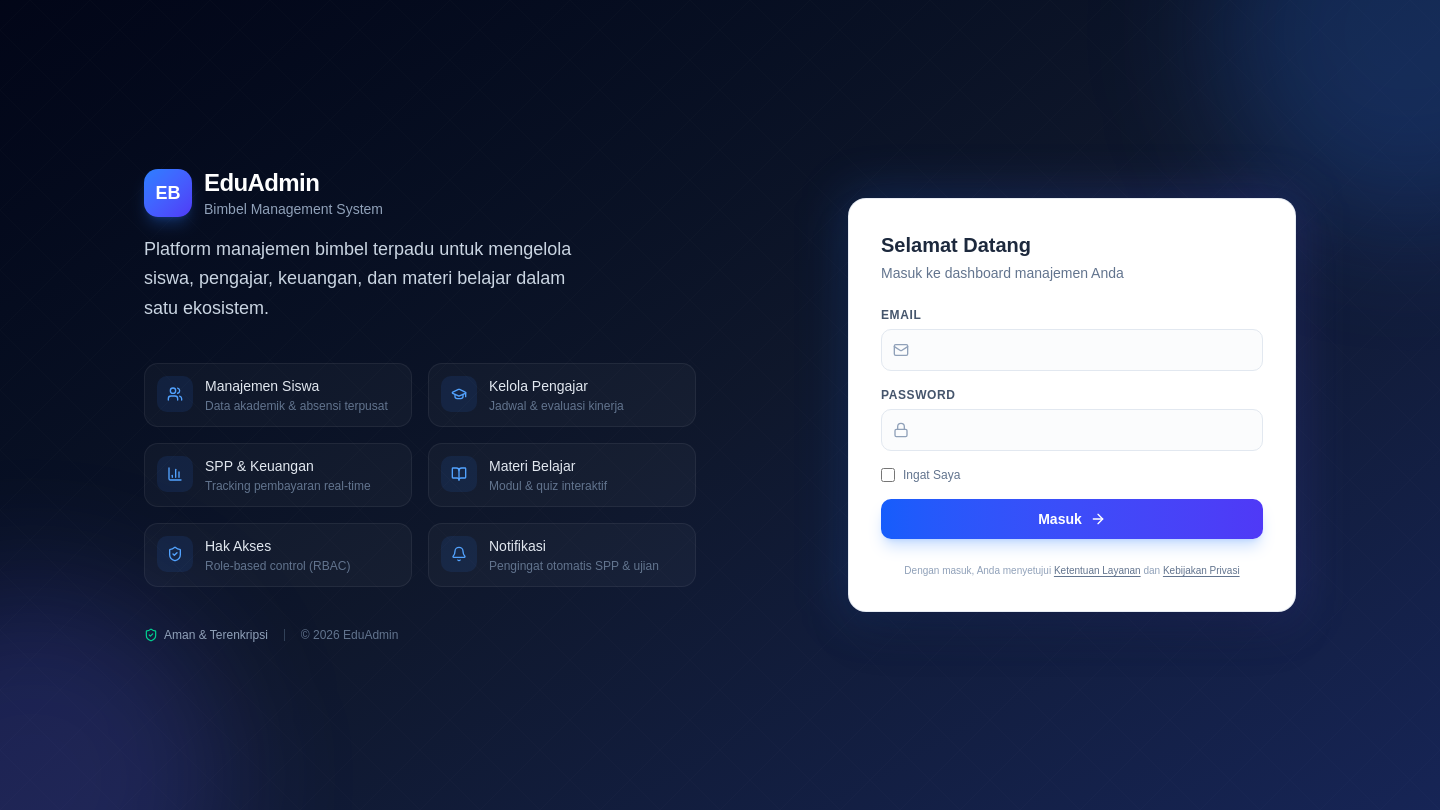
LoginPage — Email/Password Form › shows error message on failed login
This screenshot has width=1440, height=810.
Type "admin@bimbel.edu" into the field labelled "Email" at (1072,350), box 881,329 -> 1263,371
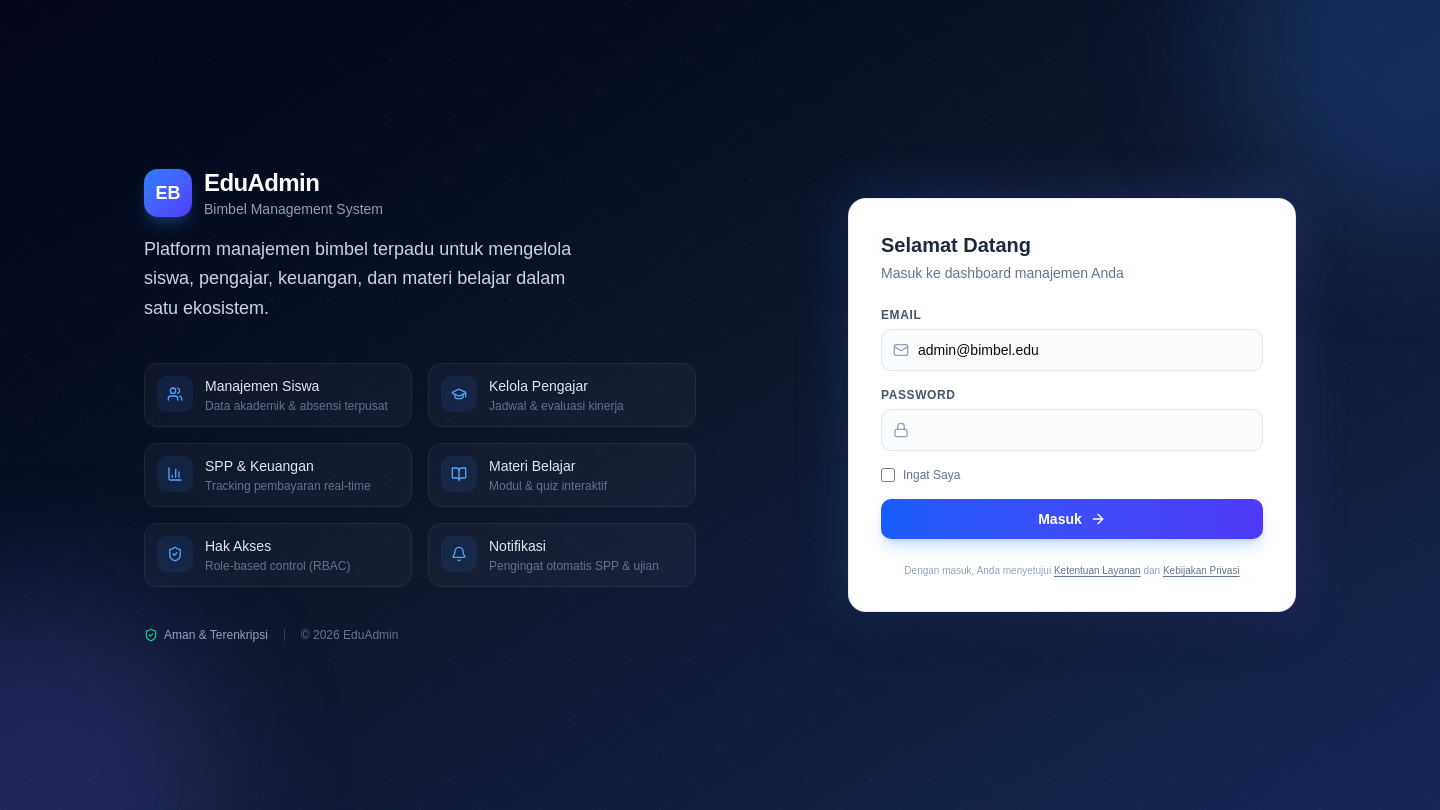
Type "admin123" into the password field labelled "Password" at (1072,430), box 881,409 -> 1263,451
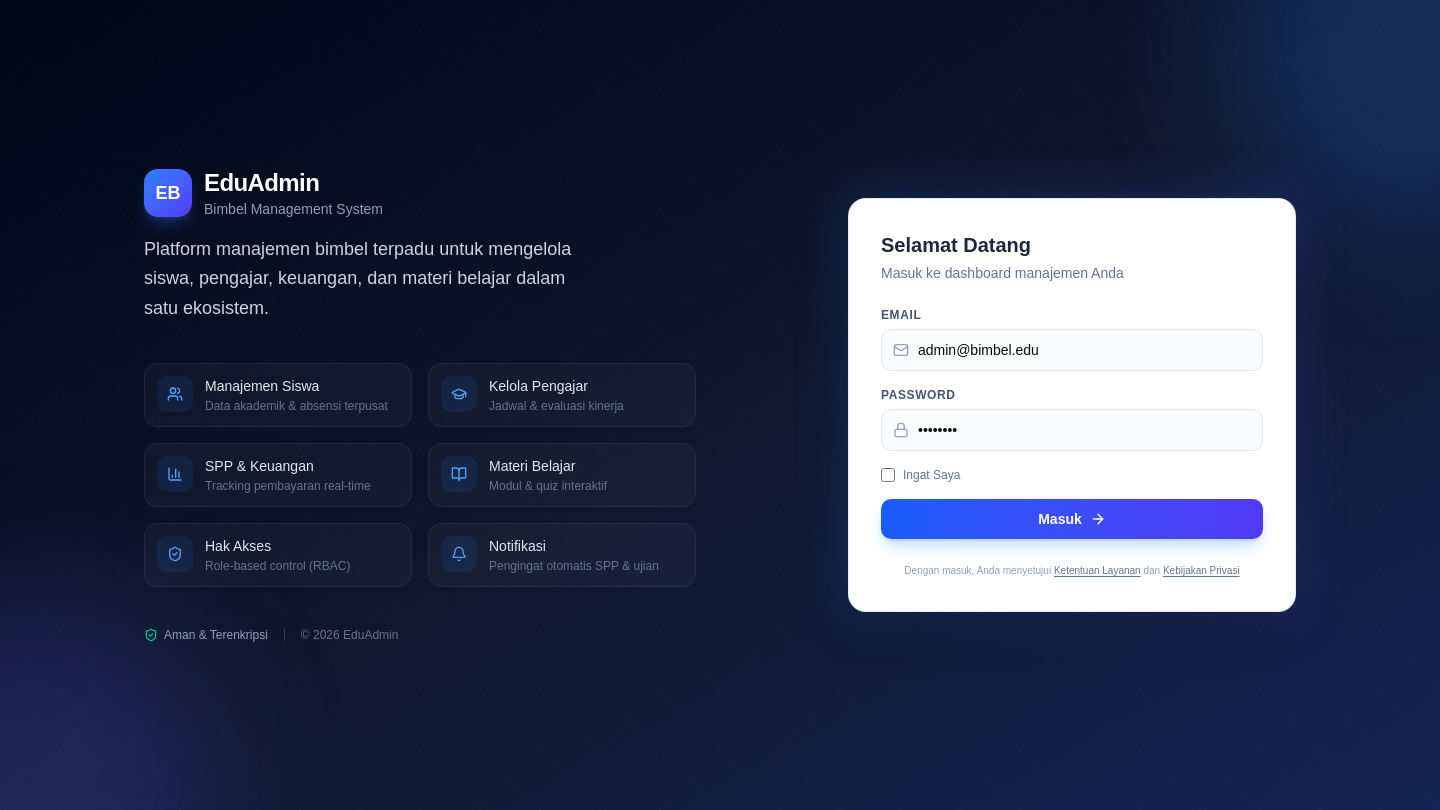
Click the button "Masuk" at (1072,519), box 881,499 -> 1263,539
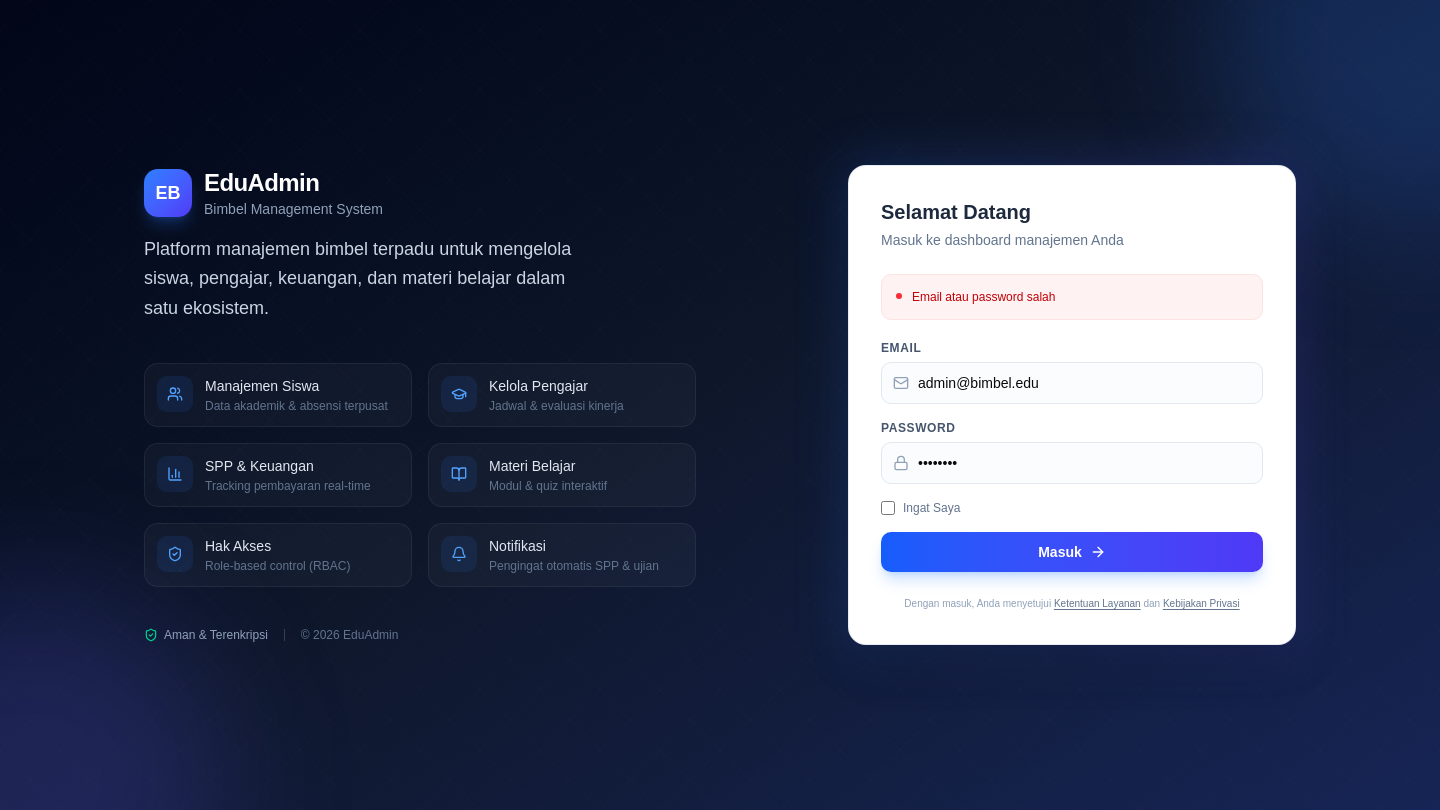
Now the message "Email atau password salah" is shown, box 881,274 -> 1263,320
Now the text "Email atau password salah" is shown, box 912,289 -> 1055,305
